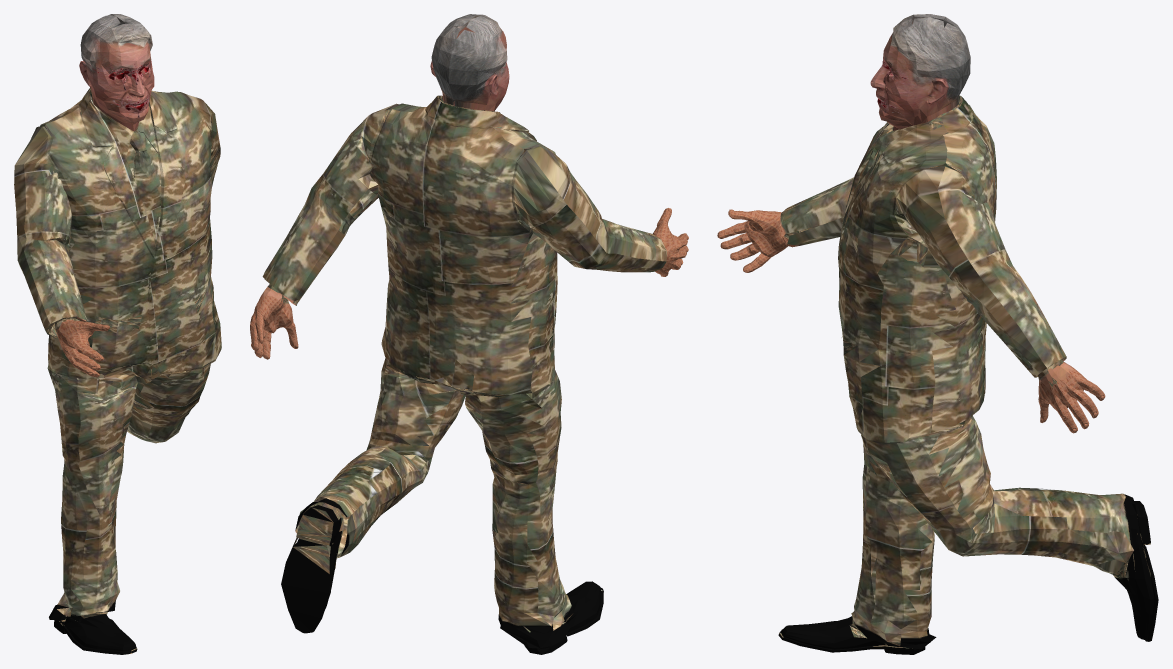
The model's file is zombie_000005.obj.
3 renders of one model, left to right at view 1: azimuth 30°, elevation 25°; view 2: azimuth 150°, elevation 25°; view 3: azimuth 270°, elevation 25°, orthographic. The views are drawn at different scales.
Parts seen in each view (by area): view 1: Suit_coat_orig_9___De, objGeo_Hea_orig_9___D; view 2: Suit_coat_orig_9___De, objGeo_Hea_orig_9___D; view 3: Suit_coat_orig_9___De, objGeo_Hea_orig_9___D.
Part boxes in pixels (x1=…): Suit_coat_orig_9___De: x1=14, y1=88, x2=221, y2=654; objGeo_Hea_orig_9___D: x1=79, y1=14, x2=154, y2=131; Suit_coat_orig_9___De: x1=250, y1=95, x2=688, y2=654; objGeo_Hea_orig_9___D: x1=430, y1=14, x2=509, y2=111; Suit_coat_orig_9___De: x1=717, y1=95, x2=1158, y2=654; objGeo_Hea_orig_9___D: x1=870, y1=14, x2=970, y2=130.
Bounding box in the file's own units: 0.8901 × 1.84 × 1.11.
